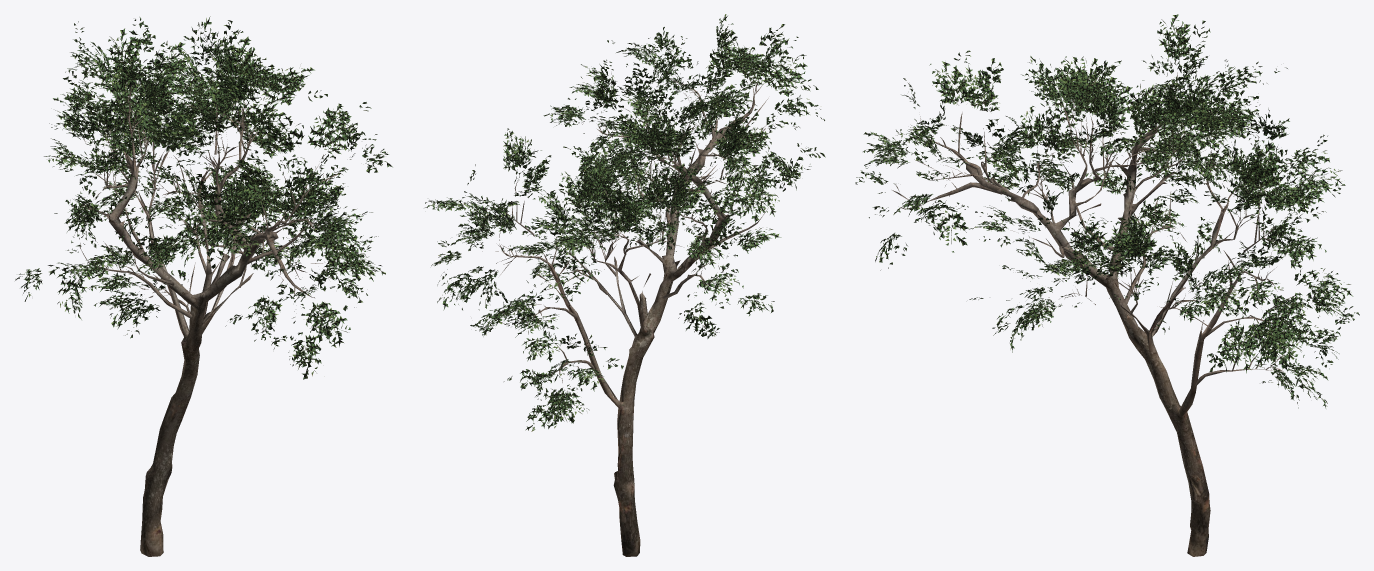
The model's file is model_tree_small.glb.
The picture shows the model from 3 angles, left to right: view 1: azimuth 30°, elevation 25°; view 2: azimuth 150°, elevation 25°; view 3: azimuth 270°, elevation 25°; orthographic projection. The views are drawn at different scales.
Visible parts, largest first — view 1: tree_small_02_LOD0; view 2: tree_small_02_LOD0; view 3: tree_small_02_LOD0.
Part boxes in pixels (<box>): tree_small_02_LOD0: <box>15,16,392,556</box>; tree_small_02_LOD0: <box>425,14,825,556</box>; tree_small_02_LOD0: <box>855,14,1359,556</box>.
Size of the model in its own units: 2.54 by 4 by 3.67.
Materials: 3 (3 with a texture image).
